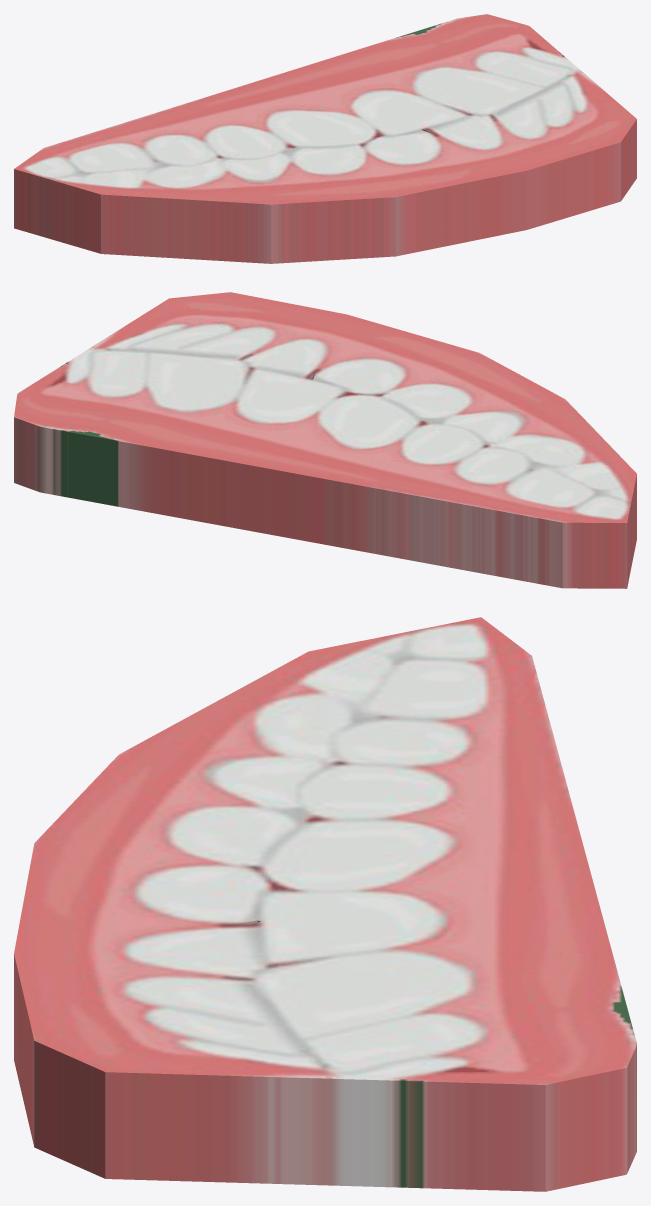
The model's file is Protrusion.gltf.
3 renders of one model, top to bottom at view 1: azimuth 30°, elevation 25°; view 2: azimuth 150°, elevation 25°; view 3: azimuth 270°, elevation 25°, orthographic. The views are drawn at different scales.
Size of the model in its own units: 0.0831 by 0.00884 by 0.0467.
Materials: 1 (1 with a texture image).
